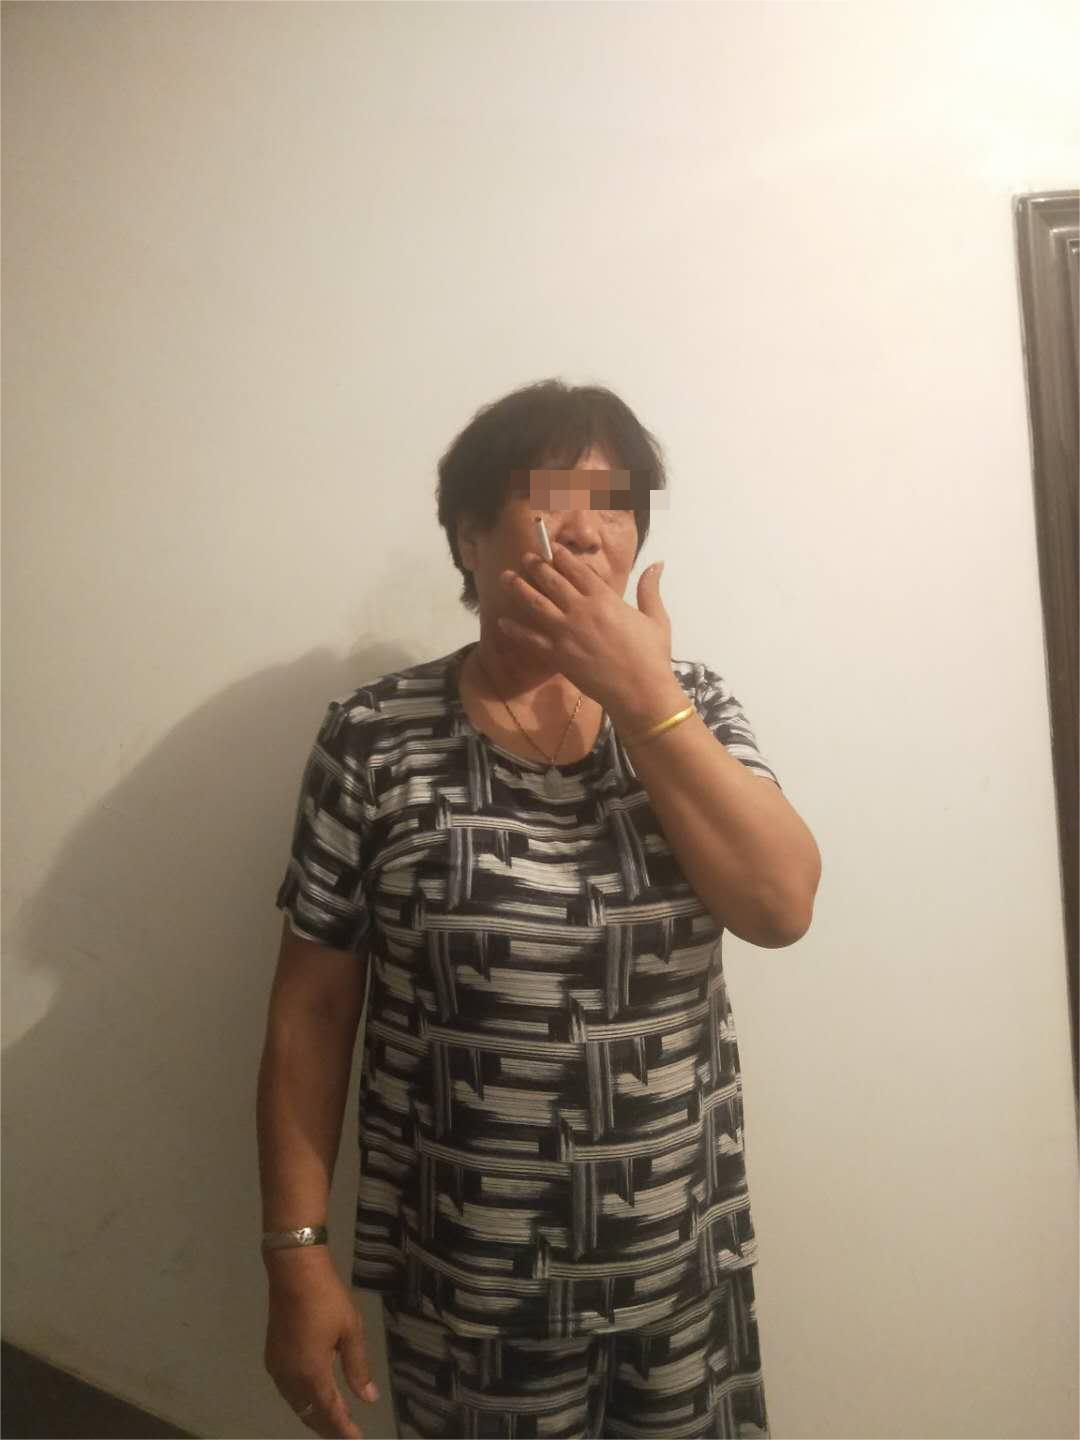smoke: (535, 513, 562, 573)
